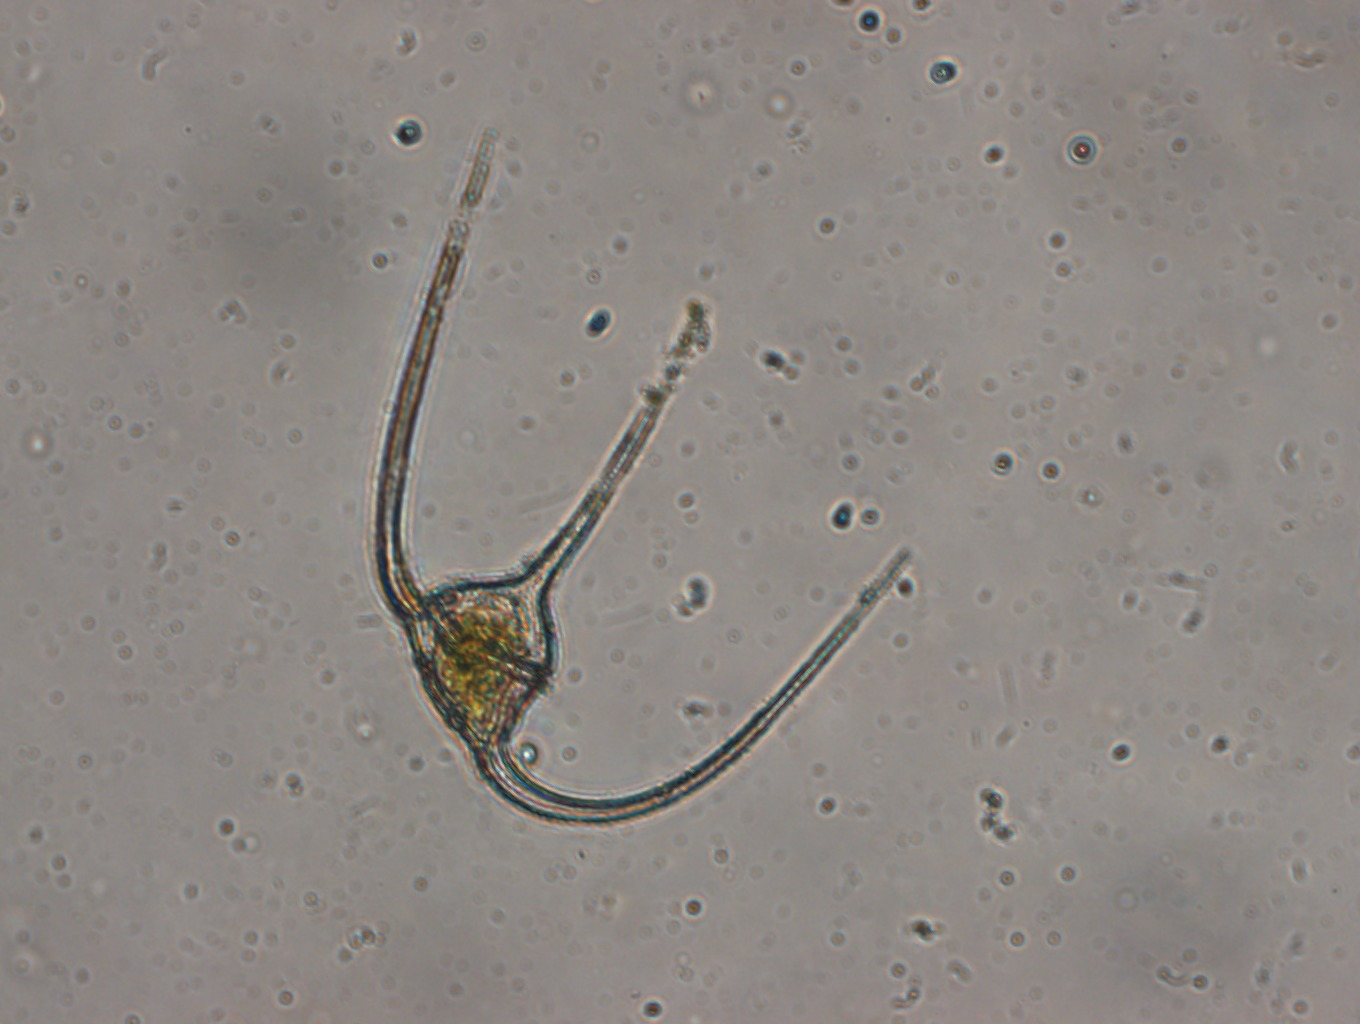ceratium trichoceros: (360, 105, 917, 831)
